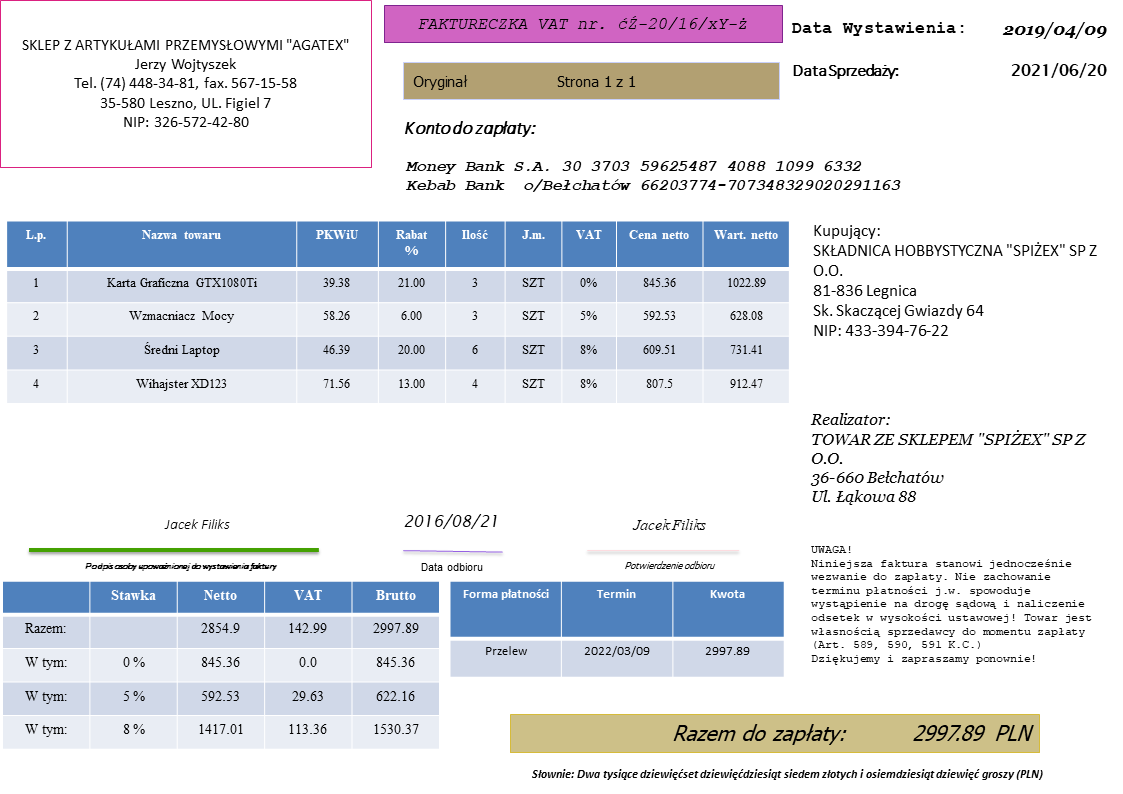Table: (5, 218, 792, 405), (1, 579, 441, 751), (448, 578, 786, 678)
TextBox: (809, 219, 1103, 343), (807, 541, 1095, 667), (17, 33, 352, 132), (807, 409, 1090, 508), (402, 156, 903, 195), (528, 764, 1047, 785), (669, 719, 1036, 747), (415, 14, 751, 33), (410, 70, 639, 94), (82, 557, 279, 576), (788, 17, 966, 38), (400, 115, 539, 141), (788, 59, 901, 83), (399, 509, 500, 534), (999, 21, 1111, 42), (1009, 59, 1107, 82), (628, 513, 709, 535), (620, 557, 719, 574), (161, 514, 234, 534), (418, 559, 485, 574)
